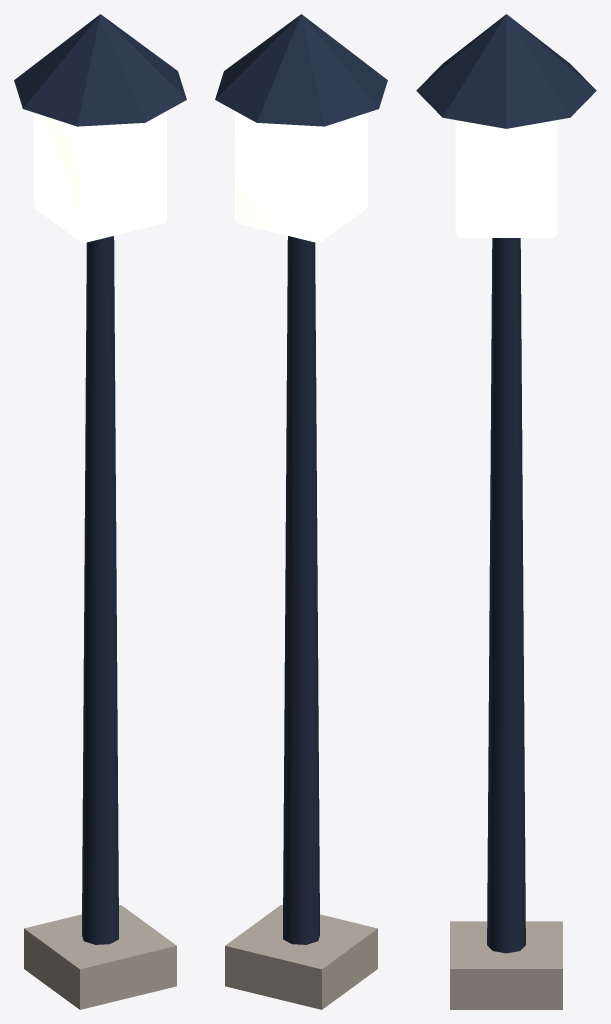
Rendered from laterne.glb.
3 views of the same model, side by side, from view 1: azimuth 30°, elevation 25°; view 2: azimuth 150°, elevation 25°; view 3: azimuth 270°, elevation 25° (orthographic).
Parts seen in each view (by area): view 1: laterne_lod0; view 2: laterne_lod0; view 3: laterne_lod0.
Boxes of the visible parts, x1,y1,x2,y2 form: laterne_lod0: (14, 14, 186, 1009); laterne_lod0: (215, 14, 387, 1009); laterne_lod0: (416, 14, 596, 1009).
Size of what is drawn, in the model's own units: 0.64 by 3.8 by 0.64.
